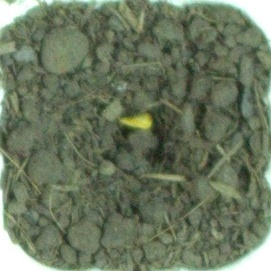pepper seed: (39, 37, 196, 170)
